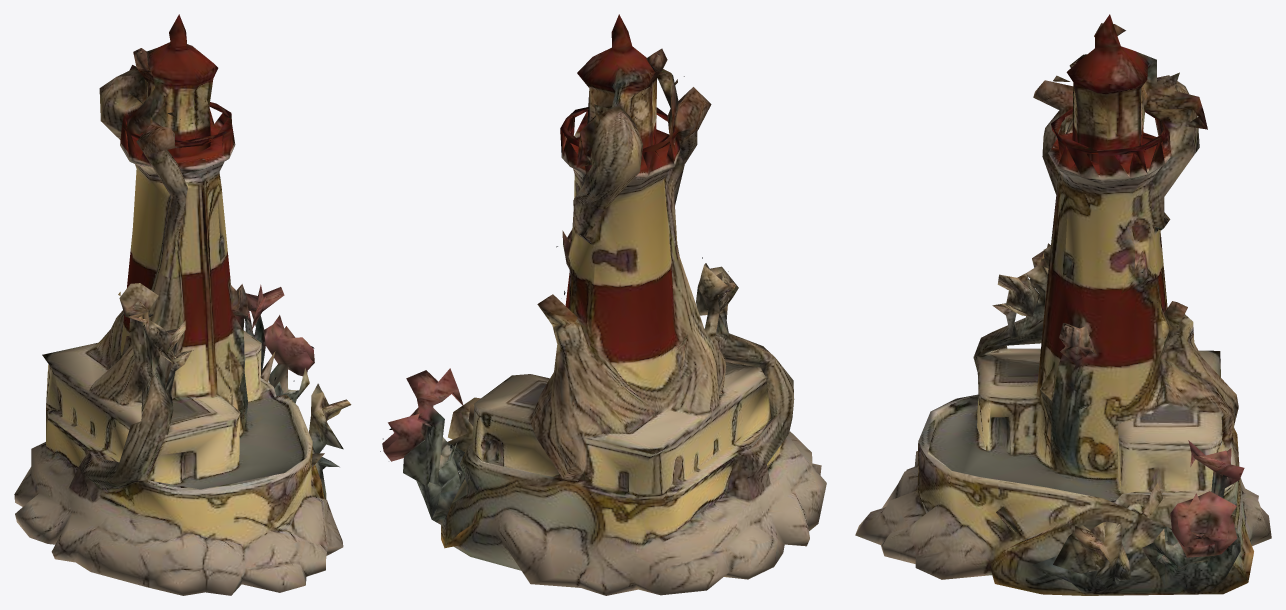
Rendered from demo_lighthouse.glb.
3 views of the same model, side by side, from view 1: azimuth 30°, elevation 25°; view 2: azimuth 150°, elevation 25°; view 3: azimuth 270°, elevation 25° (orthographic). The views are drawn at different scales.
Visible parts, largest first — view 1: tripo_node_b15a44ab-550d-4983-97c5-5b043fd007fb.001; view 2: tripo_node_b15a44ab-550d-4983-97c5-5b043fd007fb.001; view 3: tripo_node_b15a44ab-550d-4983-97c5-5b043fd007fb.001.
Boxes of the visible parts, x1,y1,x2,y2 form: tripo_node_b15a44ab-550d-4983-97c5-5b043fd007fb.001: (14, 14, 351, 595); tripo_node_b15a44ab-550d-4983-97c5-5b043fd007fb.001: (380, 14, 826, 595); tripo_node_b15a44ab-550d-4983-97c5-5b043fd007fb.001: (855, 14, 1271, 595).
Size of the model in its own units: 0.6886 by 0.9764 by 0.7057.
1 material, 1 textured.
